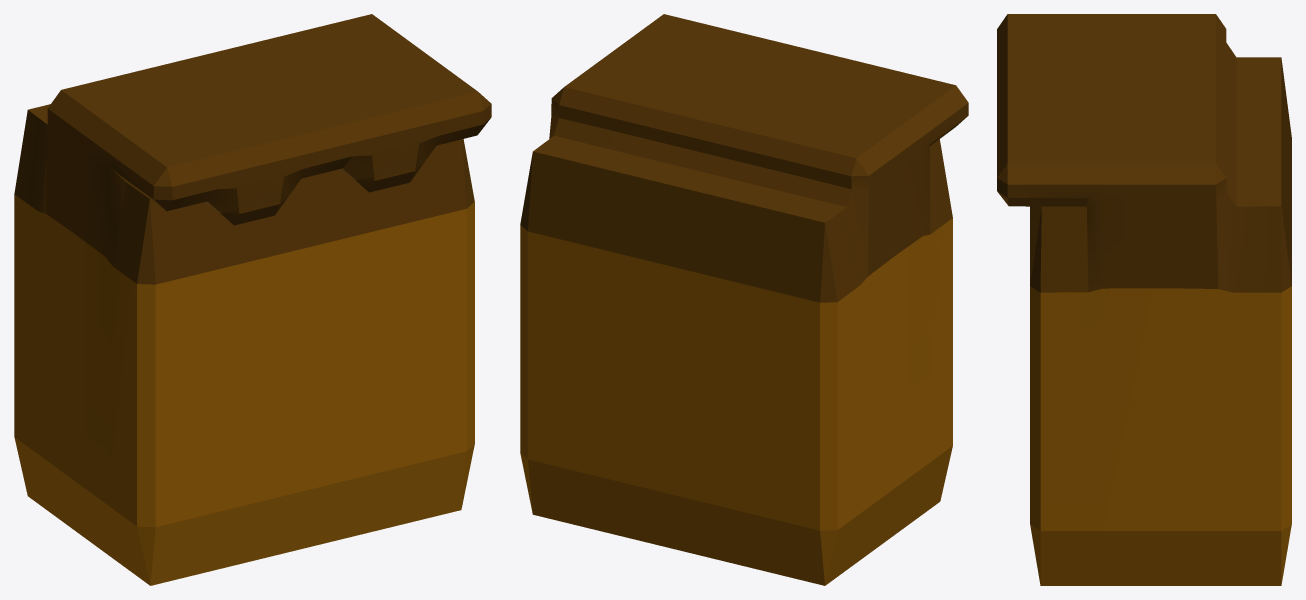
Rendered from fertillizer.fbx.
3 renders of one model, left to right at view 1: azimuth 30°, elevation 25°; view 2: azimuth 150°, elevation 25°; view 3: azimuth 270°, elevation 25°, orthographic. The views are drawn at different scales.
Parts seen in each view (by area): view 1: pCube1; view 2: pCube1; view 3: pCube1.
Boxes of the visible parts, <box> form: pCube1: <box>14,14,491,585</box>; pCube1: <box>520,14,968,585</box>; pCube1: <box>997,14,1291,585</box>.
Bounding box in the file's own units: 1.07 × 1.31 × 0.825.
